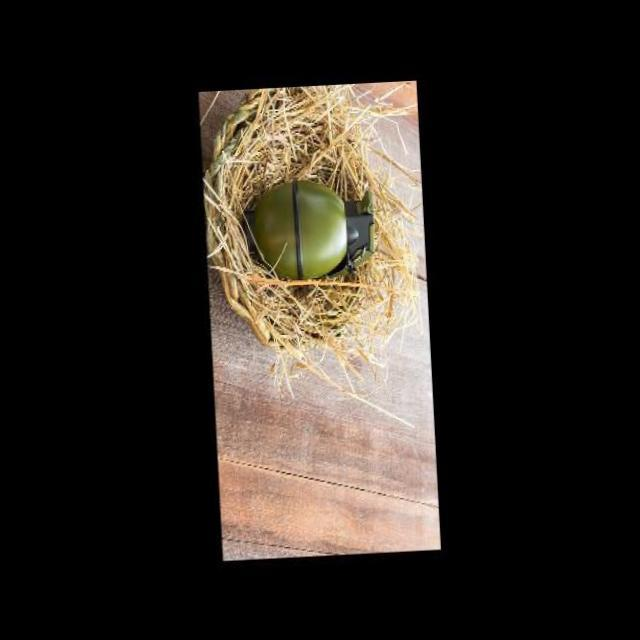grenade: (246, 165, 380, 275)
